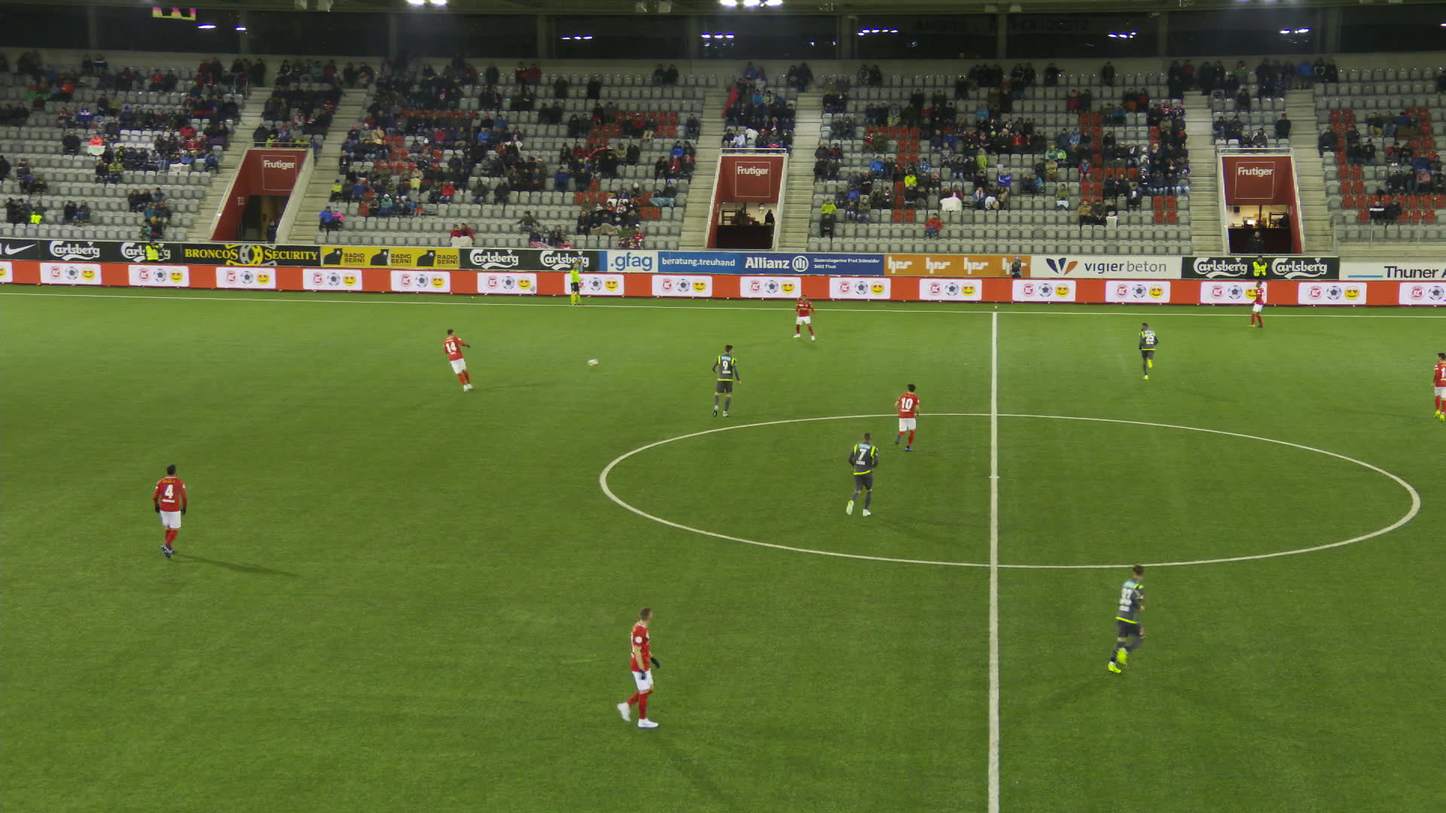ball: (587, 358, 598, 366)
player: (611, 606, 663, 726), (1107, 565, 1147, 673), (151, 464, 188, 558), (845, 429, 877, 518), (711, 346, 743, 419), (444, 329, 477, 391), (892, 382, 920, 450), (1139, 321, 1159, 378), (1429, 352, 1445, 420), (795, 294, 818, 340), (1246, 279, 1264, 327)
referee: (570, 263, 584, 306)
